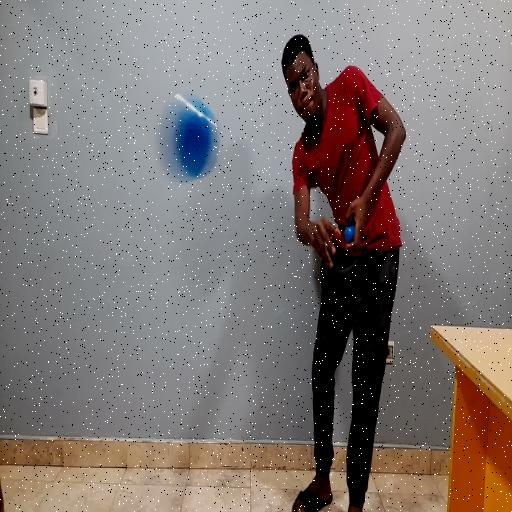plastic-ball: (151, 84, 224, 190)
